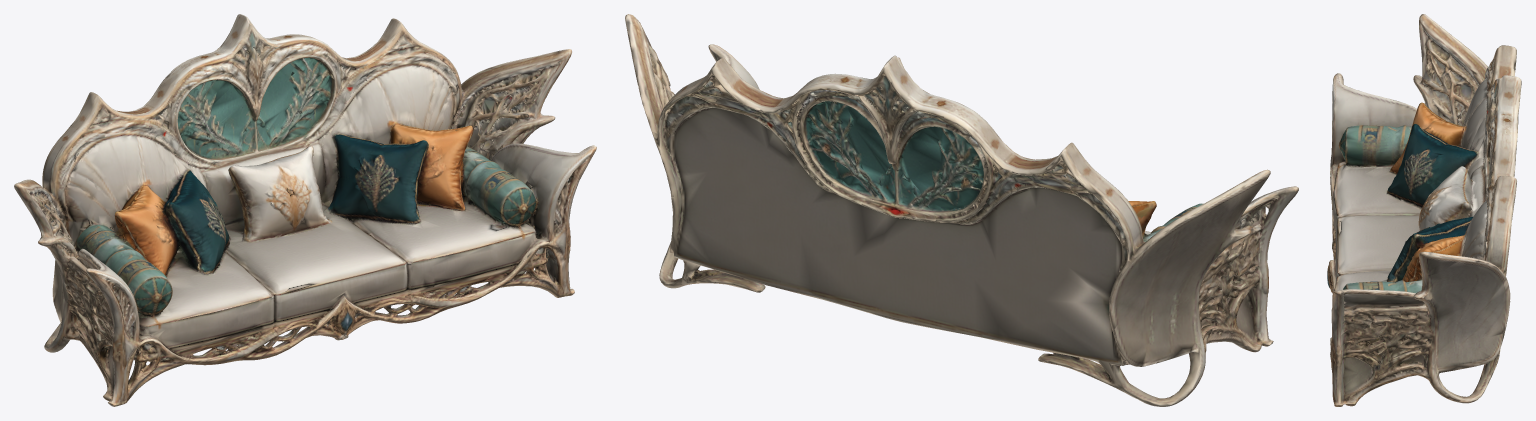
Rendered from sofa.glb.
3 views of the same model, side by side, from view 1: azimuth 30°, elevation 25°; view 2: azimuth 150°, elevation 25°; view 3: azimuth 270°, elevation 25° (orthographic). The views are drawn at different scales.
Parts seen in each view (by area): view 1: mesh_node; view 2: mesh_node; view 3: mesh_node.
Boxes of the visible parts, x1,y1,x2,y2 form: mesh_node: (14, 14, 596, 406); mesh_node: (625, 14, 1298, 406); mesh_node: (1327, 14, 1521, 406).
Bounding box in the file's own units: 1.9 × 0.8616 × 0.6502.
1 material, 1 textured.
